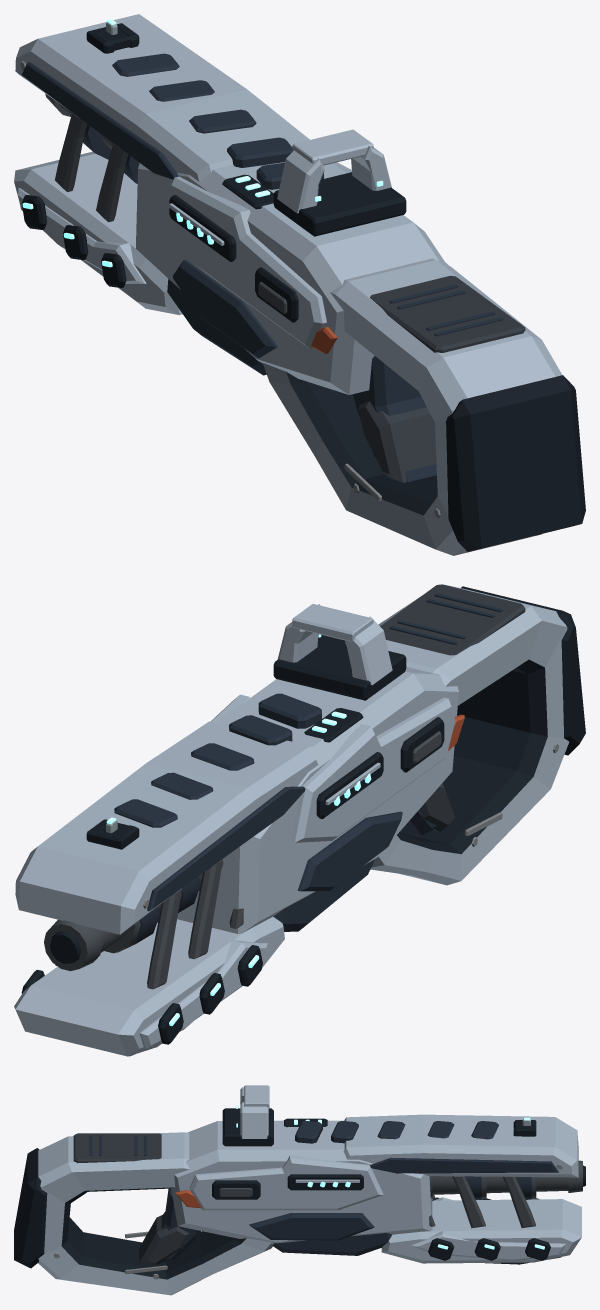
The model's file is aster_carbine.glb.
The picture shows the model from 3 angles, top to bottom: view 1: azimuth 30°, elevation 25°; view 2: azimuth 150°, elevation 25°; view 3: azimuth 270°, elevation 25°; orthographic projection. The views are drawn at different scales.
Visible parts, largest first — view 1: aster_carbine; view 2: aster_carbine; view 3: aster_carbine.
Boxes of the visible parts, x1=… form: aster_carbine: x1=14, y1=14, x2=585, y2=555; aster_carbine: x1=14, y1=584, x2=585, y2=1056; aster_carbine: x1=14, y1=1085, x2=585, y2=1295.
Bounding box in the file's own units: 0.306 × 0.5615 × 1.55.
